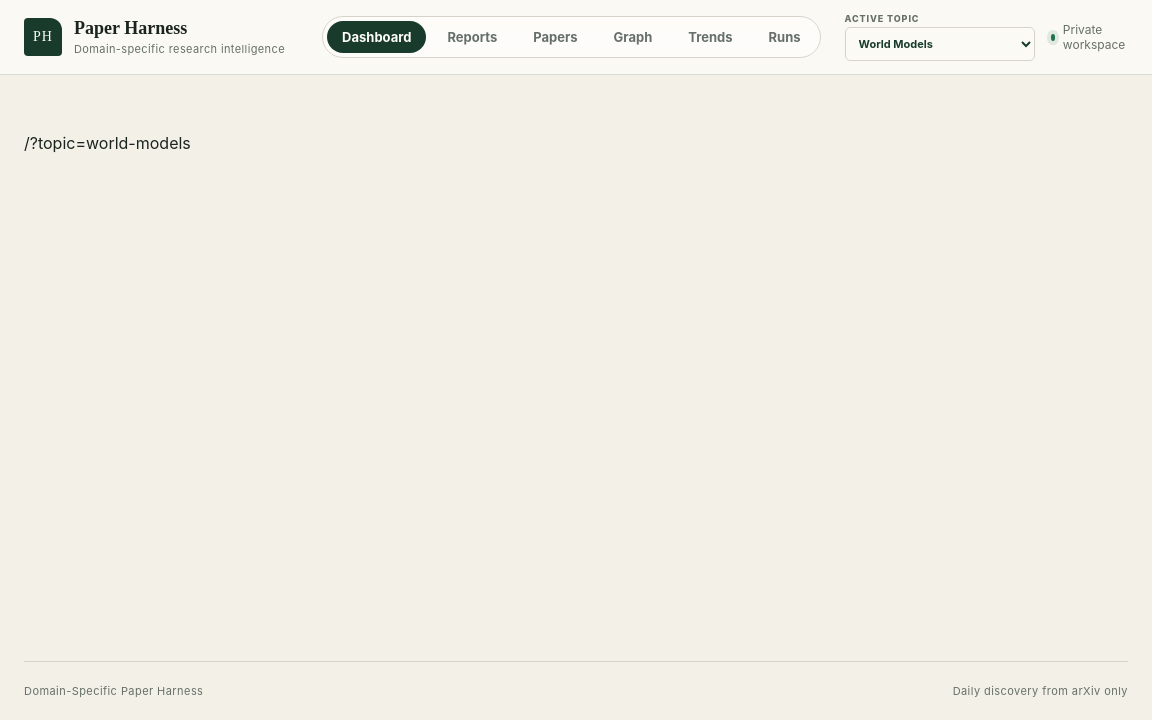
Test: AppShell topic selection › switches topic in place and updates every global navigation destination
Select "Brain-Computer Interfaces" in the dropdown labelled "Active topic" at (940, 44), box [844,27,1034,61]
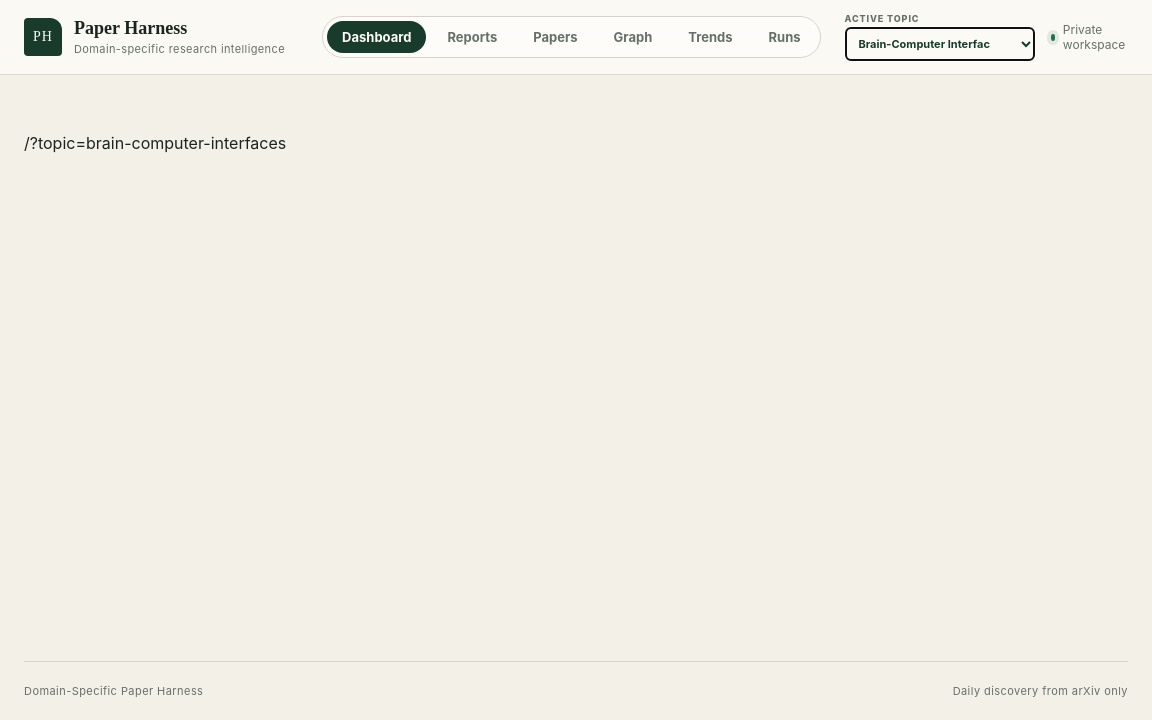
Result: the text named "Current location" reads "/?topic=brain-computer-interfaces" at [24,133,286,153]
